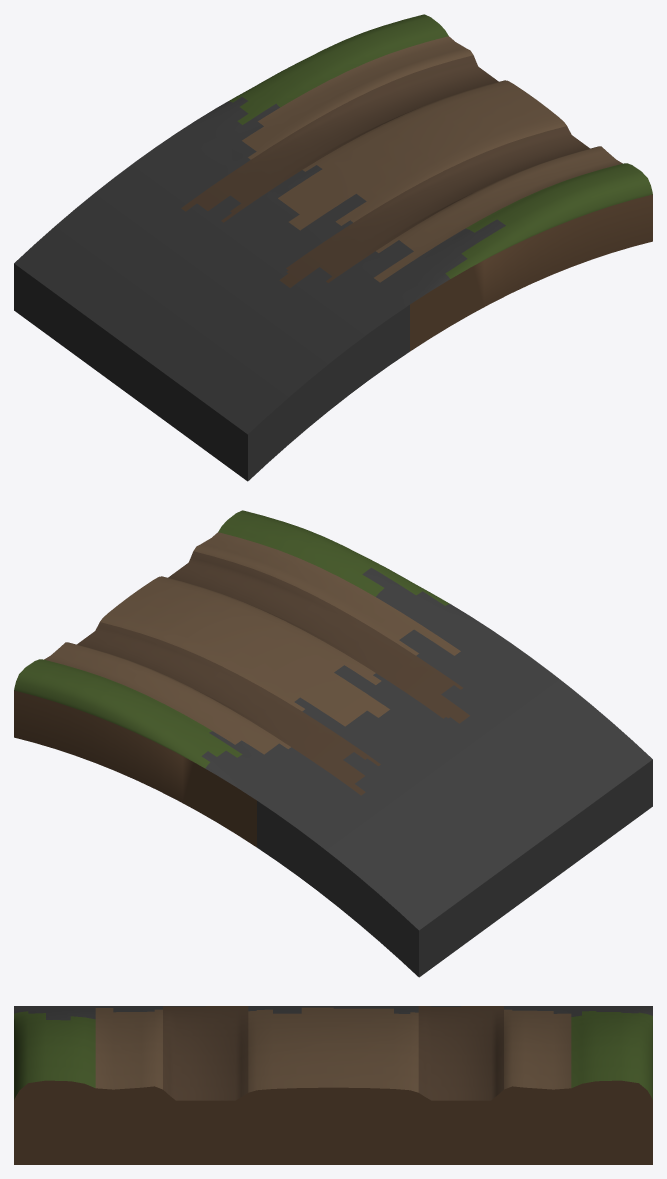
3 renders of one model, top to bottom at view 1: azimuth 30°, elevation 25°; view 2: azimuth 150°, elevation 25°; view 3: azimuth 270°, elevation 25°, orthographic. The views are drawn at different scales.
Parts seen in each view (by area): view 1: e3u; view 2: e3u; view 3: e3u.
Part boxes in pixels (x1,y1,x2,y2): e3u: [14, 14, 652, 481]; e3u: [14, 510, 652, 977]; e3u: [14, 1006, 652, 1164].
Bounding box in the file's own units: 9 × 4.31 × 9.
